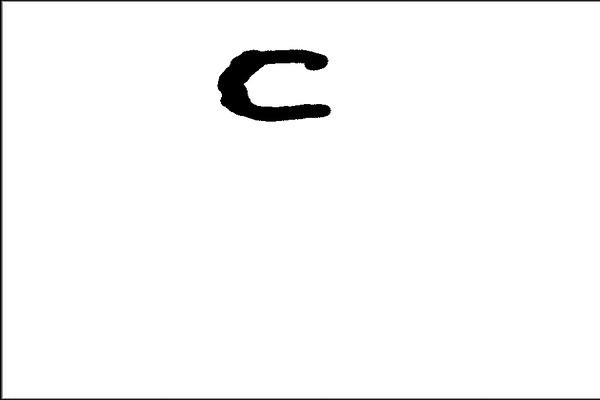C: (213, 38, 336, 125)
